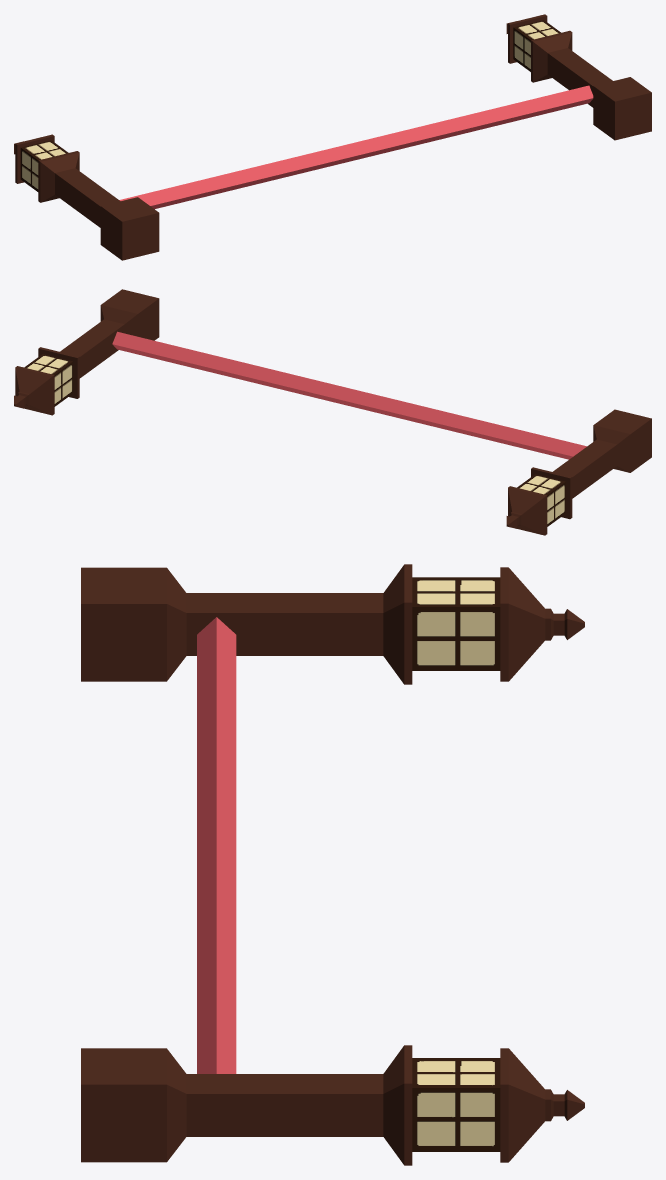
File: lamps.fbx
3 views of the same model, one above another, from view 1: azimuth 30°, elevation 25°; view 2: azimuth 150°, elevation 25°; view 3: azimuth 270°, elevation 25° (orthographic). The views are drawn at different scales.
Visible parts, largest first — view 1: Cube.004; view 2: Cube.004; view 3: Cube.004.
Boxes of the visible parts, bbox=[...] form: Cube.004: bbox=[14, 14, 651, 260]; Cube.004: bbox=[14, 289, 651, 535]; Cube.004: bbox=[81, 564, 584, 1165].
Size of the model in its own units: 883 by 65.04 by 362.
